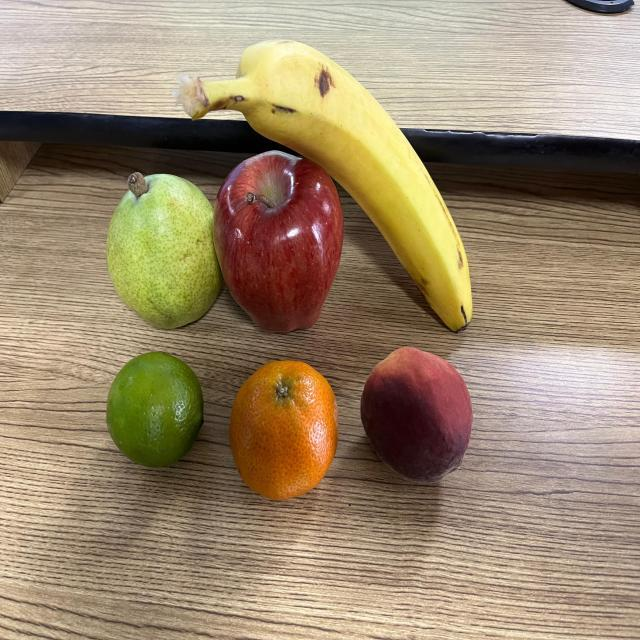Apel Merah: (210, 147, 348, 332)
Jeruk Mandarin: (226, 358, 342, 503)
Lemon: (102, 346, 206, 472)
Persik: (358, 342, 476, 486)
Pir: (103, 168, 226, 331)
Pisang: (173, 35, 474, 334)
